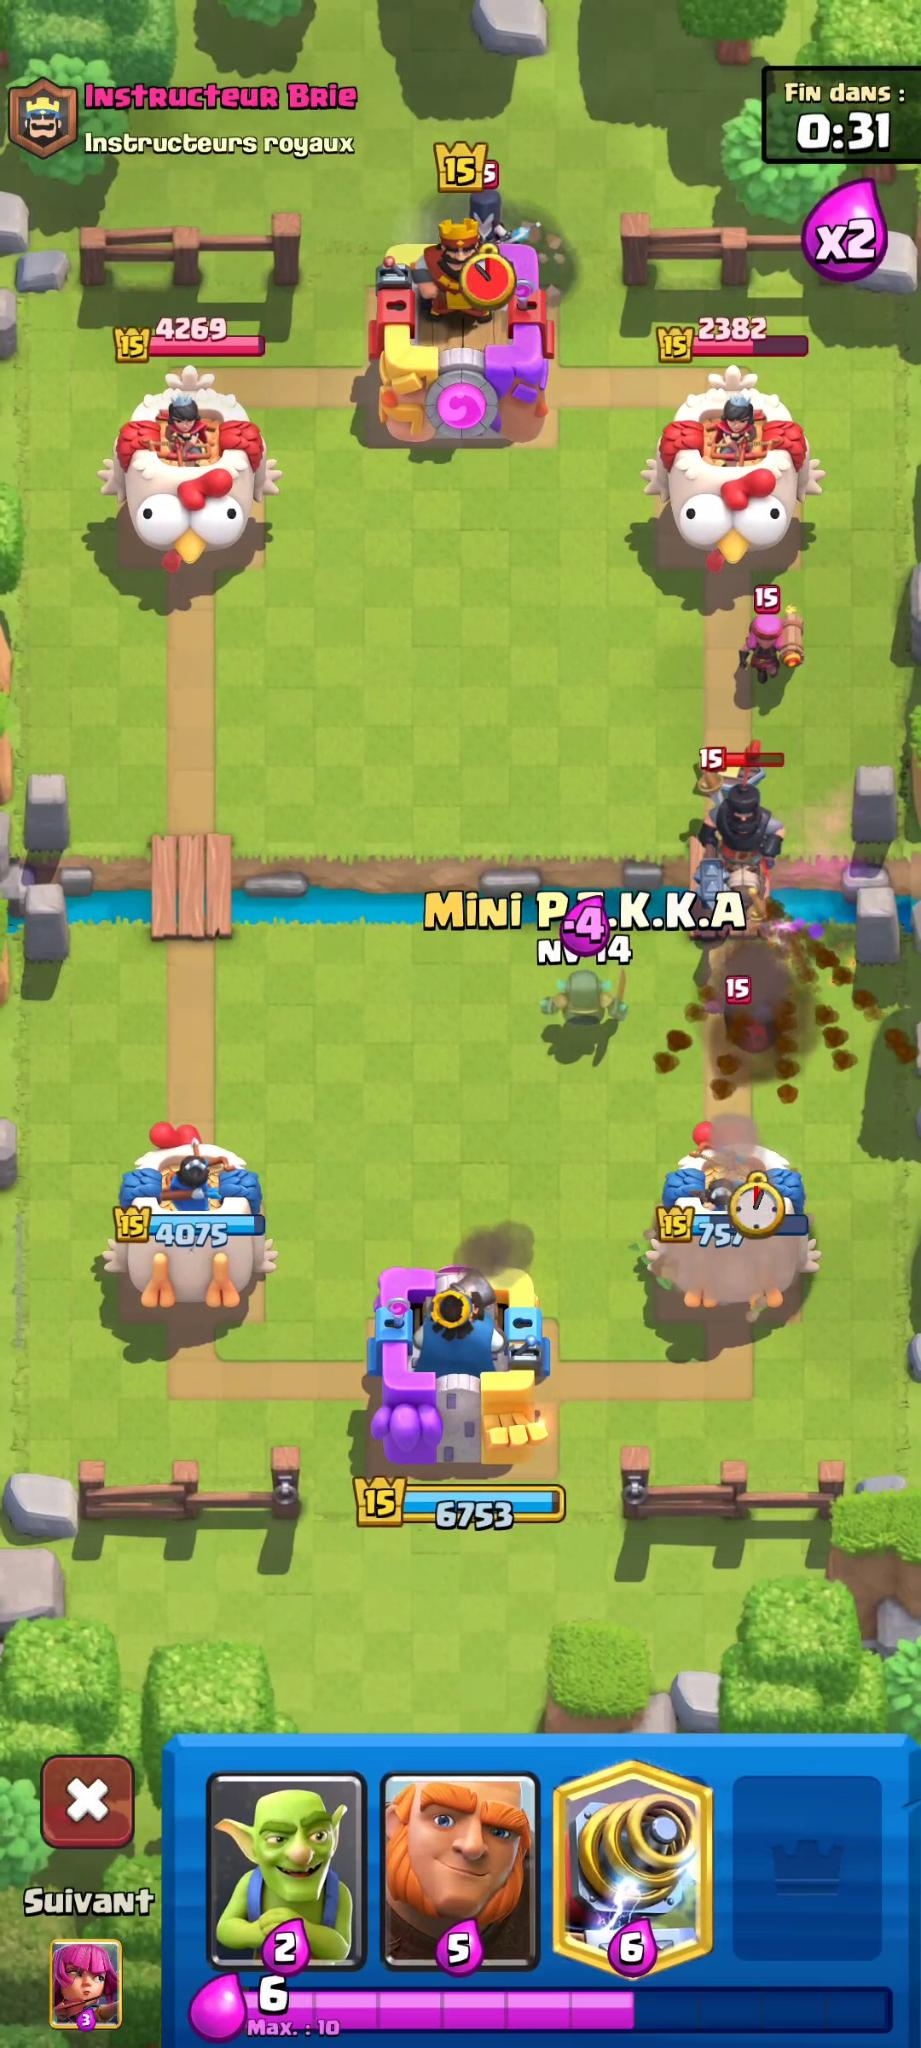mini_PEKKA: (542, 963, 634, 1042)
